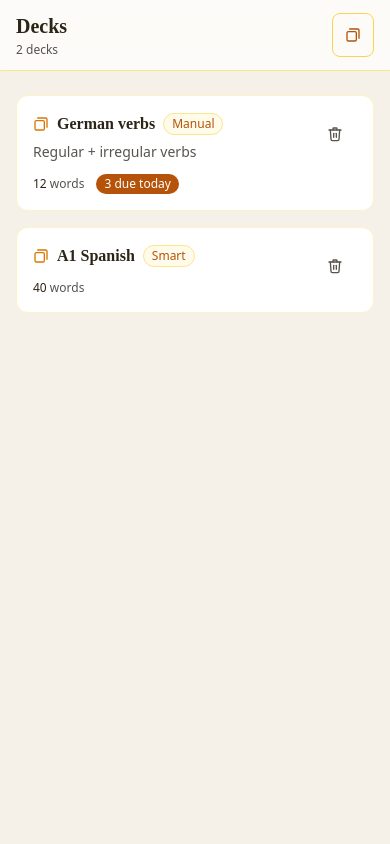
Test: deleting a deck removes it from the list optimistically and shows UndoToast
This screenshot has width=390, height=844.
Check: the heading "German verbs" is shown, box [57,112,155,136]
Click the button with test id "deck-delete-1" at (335, 134), box [313,112,357,156]
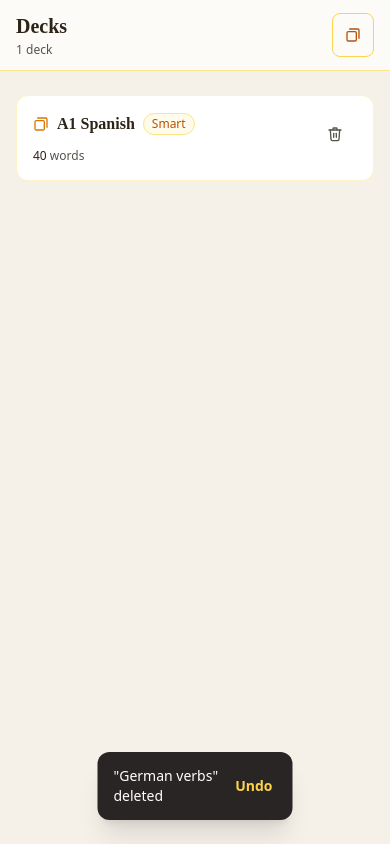
Check: the heading "A1 Spanish" is shown, box [57,112,135,136]
Check: the text "\"German verbs\" deleted" is shown, box [114,766,219,806]
